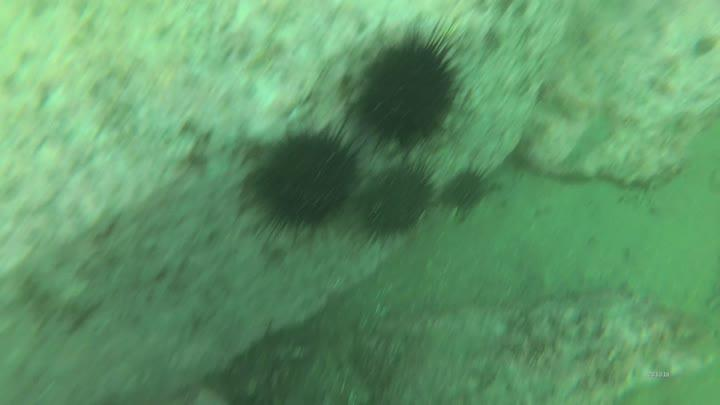urchin: (350, 35, 465, 145), (251, 127, 353, 219), (351, 158, 431, 231), (436, 158, 486, 222)
